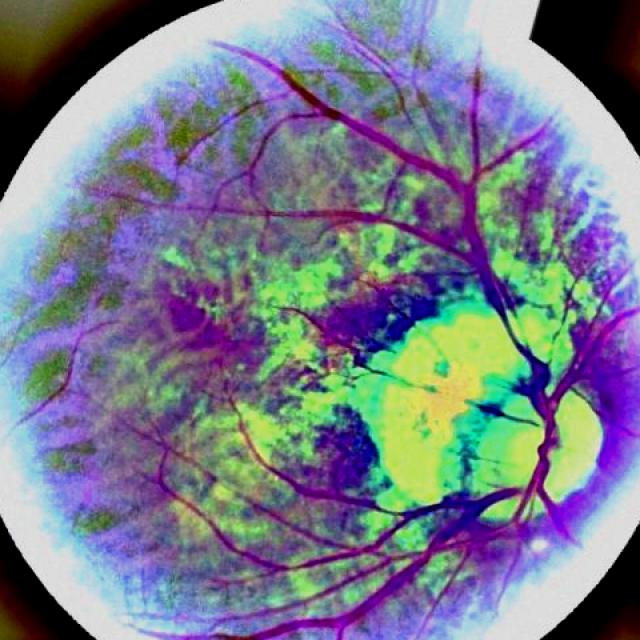Nerves: (139, 45, 640, 640)
Optic Disk: (344, 265, 604, 523), (541, 387, 603, 505), (521, 491, 547, 520)
